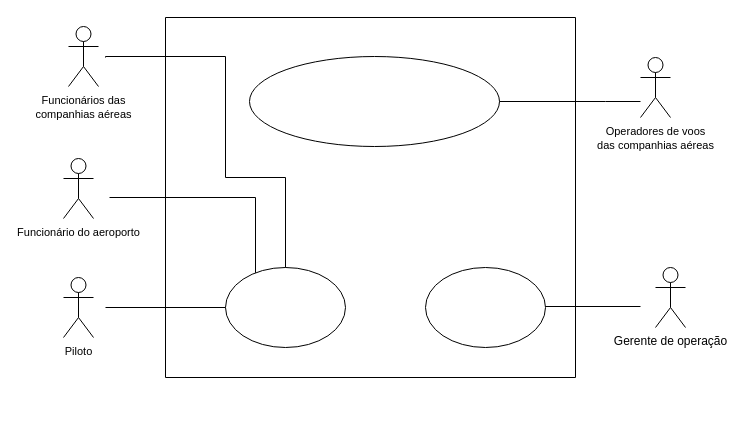
Image size: 744x423. Some labels were removed from this diagram. The shapes that lost their labels are listed below. From the top down, each one's box as (x1, y1, x2, y2) in pixels, then its label:
(248, 56, 500, 146): Cadastrar/visualizar/editar/deletar voos ( CRUD: Create, Read, Update, Delete )
(224, 266, 346, 348): Monitorar e atualizar voos
(424, 266, 546, 348): Gerar relatórios administrativos
